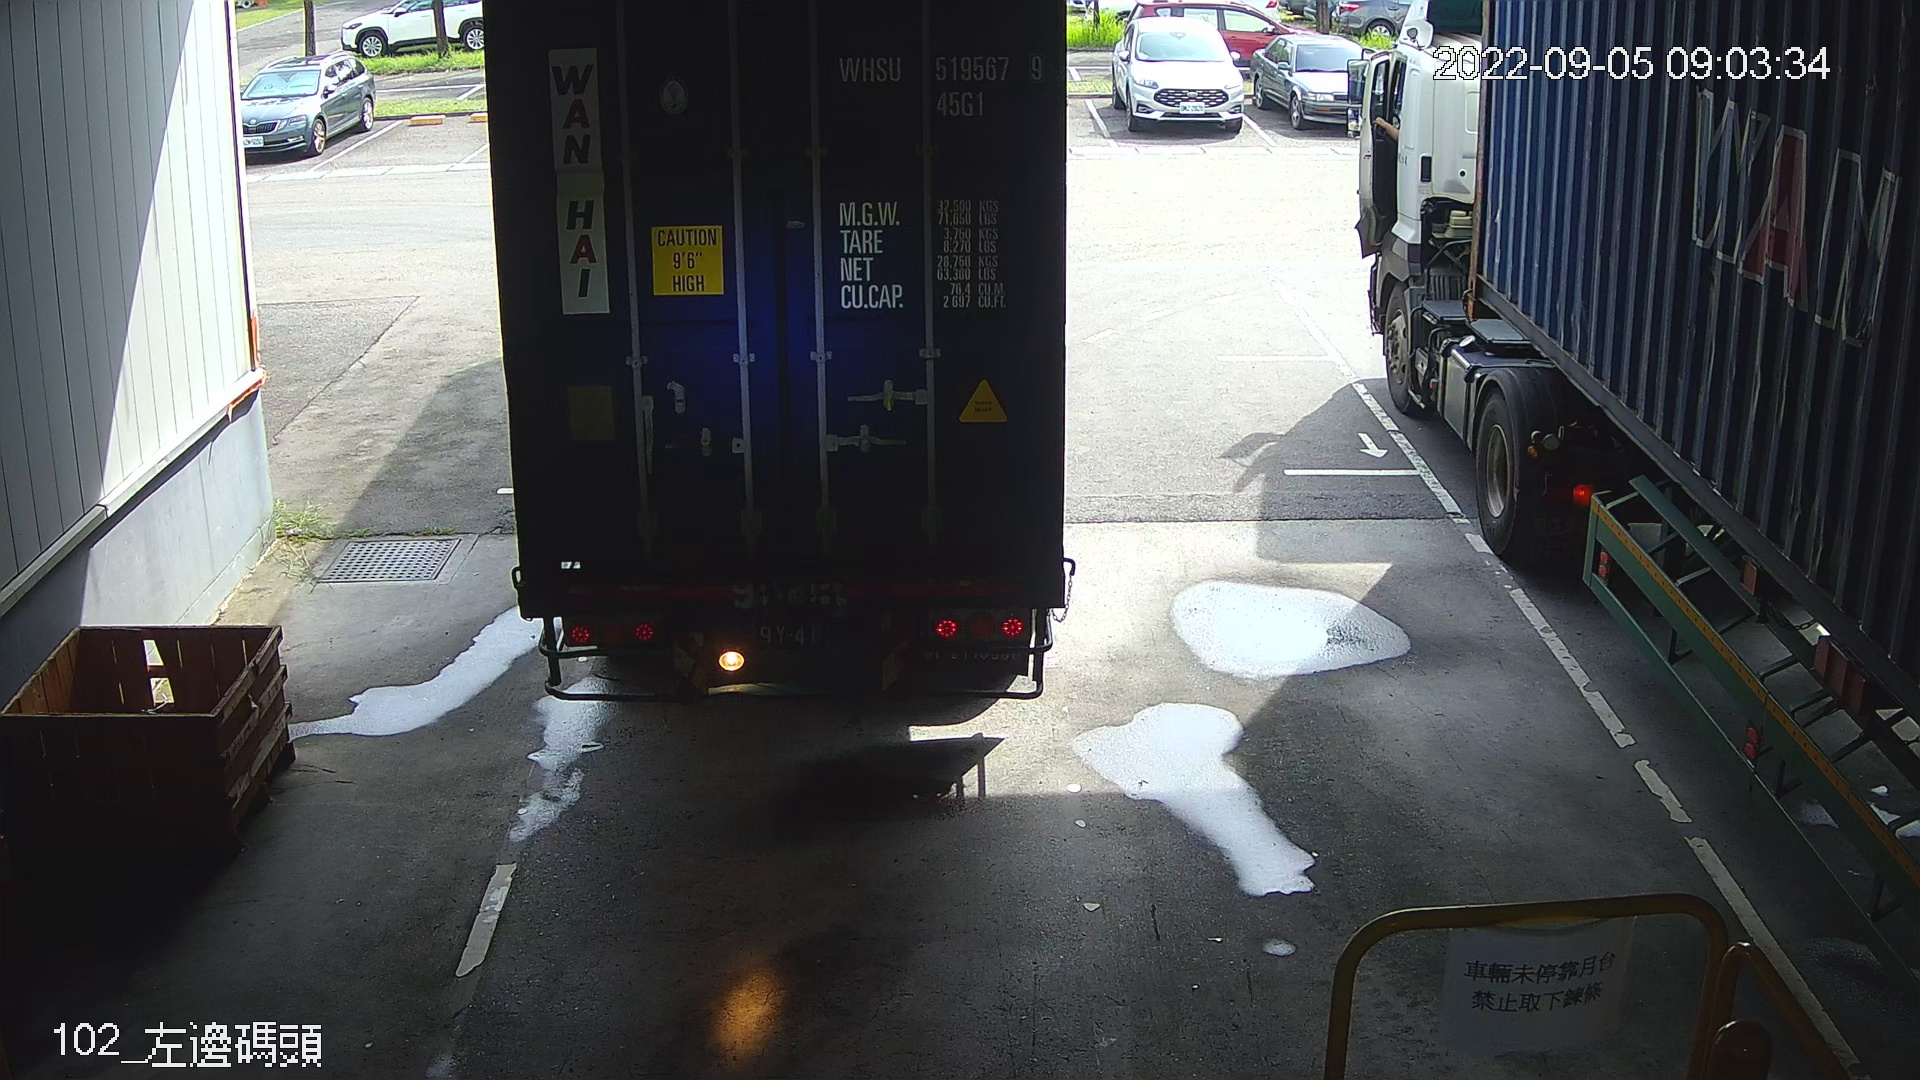container: (831, 40, 1050, 127)
